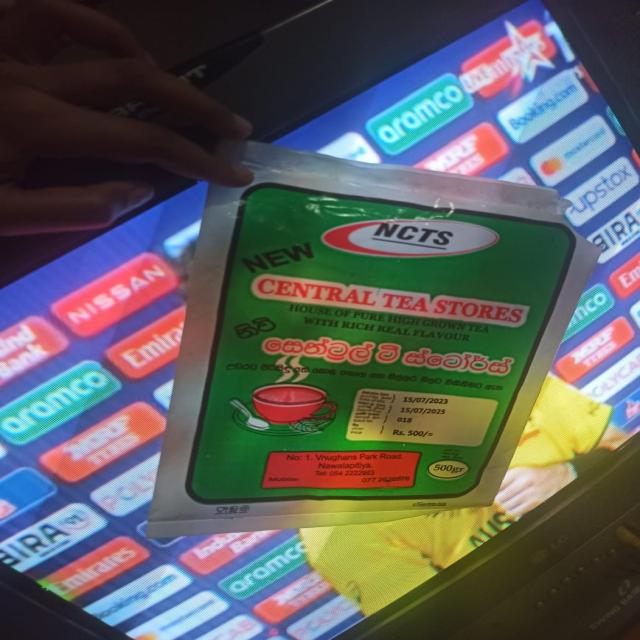Central Tea: (228, 142, 554, 579)
